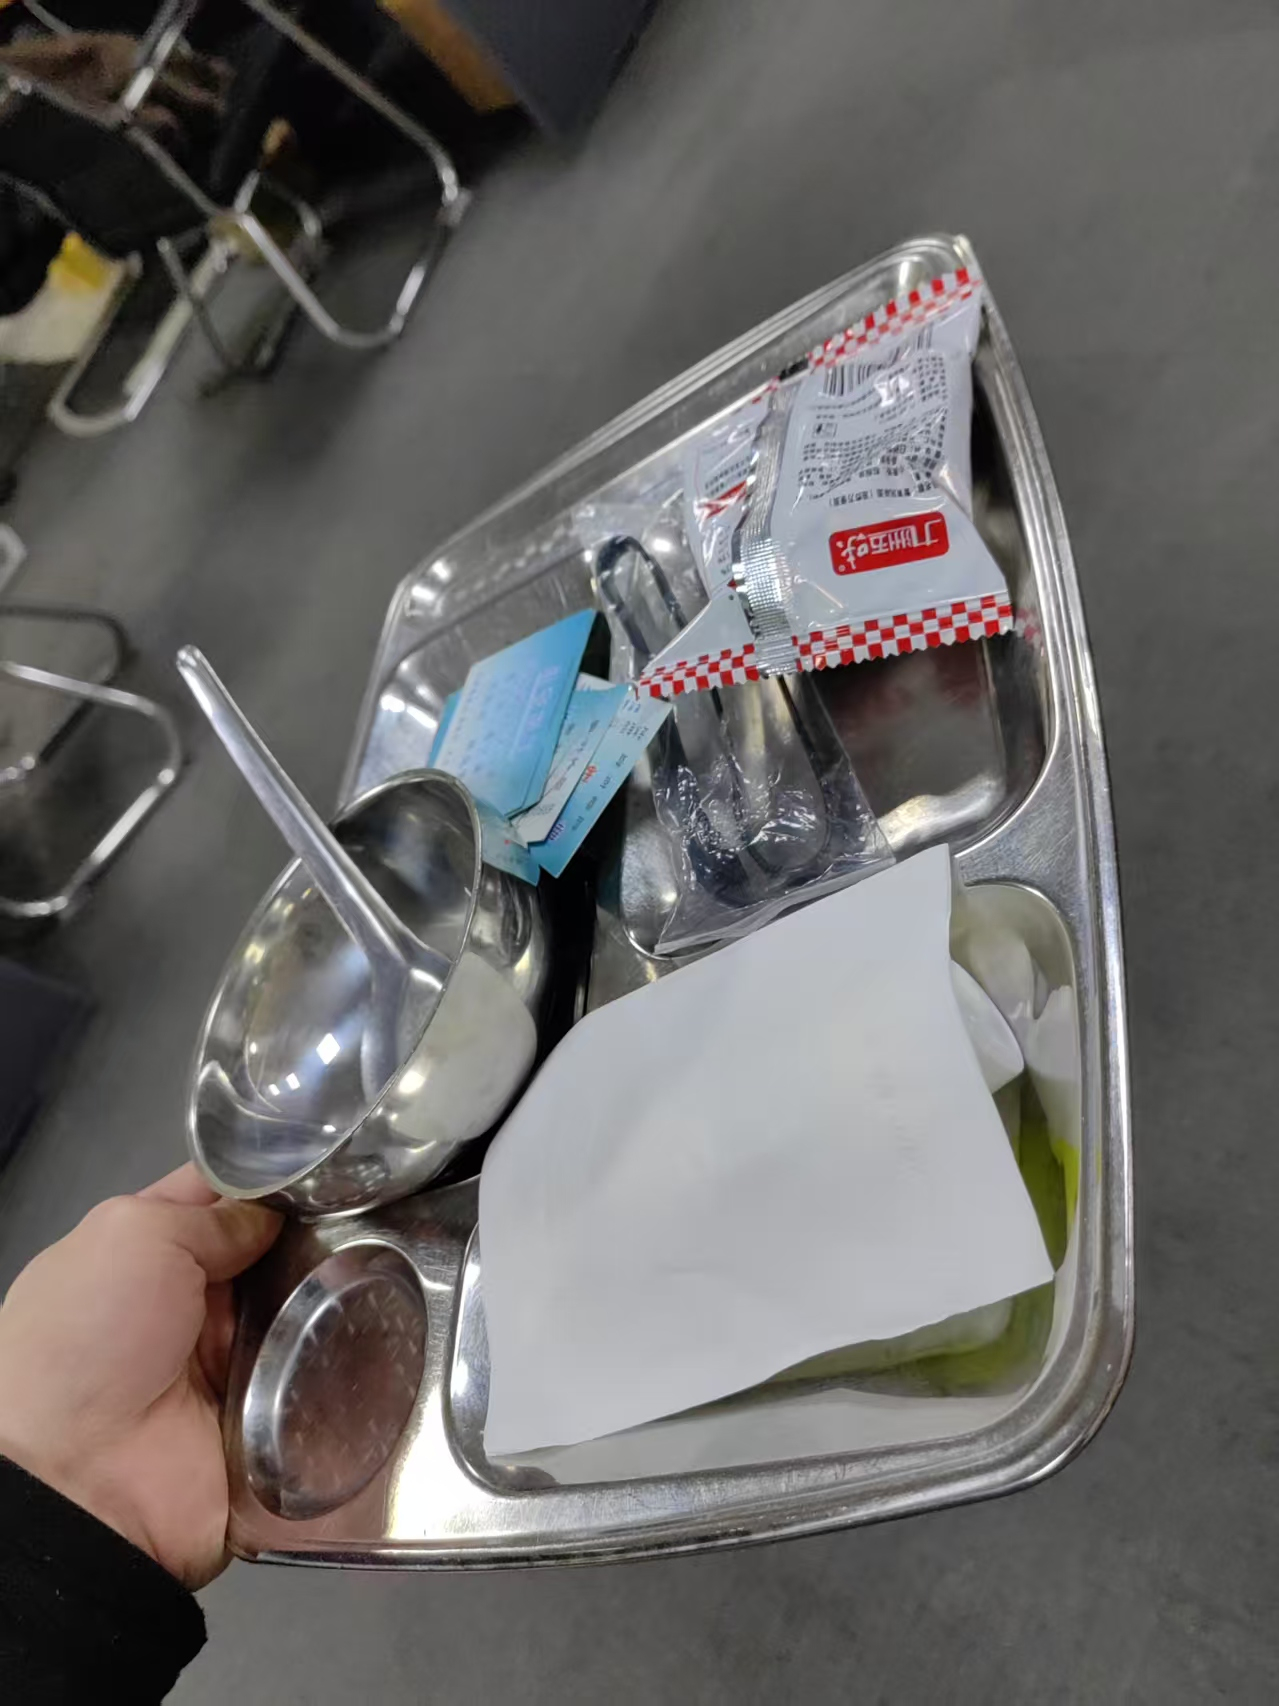moderate: (413, 272, 1031, 952)
plate: (208, 226, 1144, 1575)
tissue: (482, 841, 1064, 1459)
